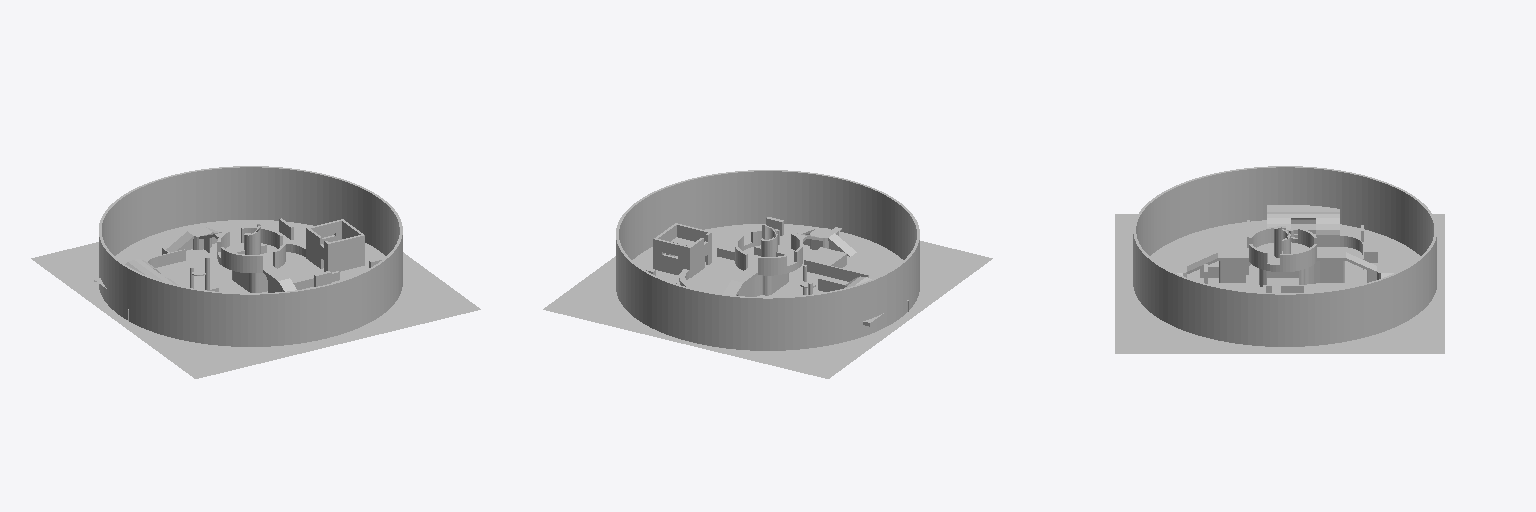
Rendered from MapUntextured.obj.
3 views of the same model, side by side, from view 1: azimuth 30°, elevation 25°; view 2: azimuth 150°, elevation 25°; view 3: azimuth 270°, elevation 25° (orthographic).
Parts seen in each view (by area): view 1: worldspawn_12420; view 2: worldspawn_12420; view 3: worldspawn_12420.
Part boxes in pixels (left/top/right/bottom): worldspawn_12420: left=31, top=166, right=480, bottom=378; worldspawn_12420: left=543, top=170, right=992, bottom=378; worldspawn_12420: left=1115, top=166, right=1444, bottom=353.
Bounding box in the file's own units: 34.72 × 7.15 × 34.72.